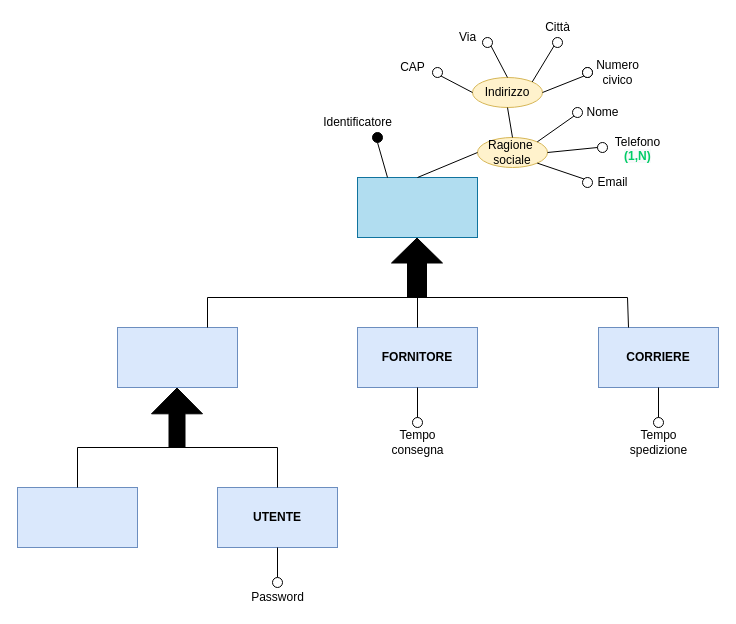
Image size: 736x624. Some labels were removed from this diagram. The shapes that lost their labels are listed below. From the top down, each one's centre as x and y in pixels, then its label:
point (417, 207): PERSONA/ AZIENDA
point (177, 357): CLIENTE
point (77, 517): CLIENTE FISICO
